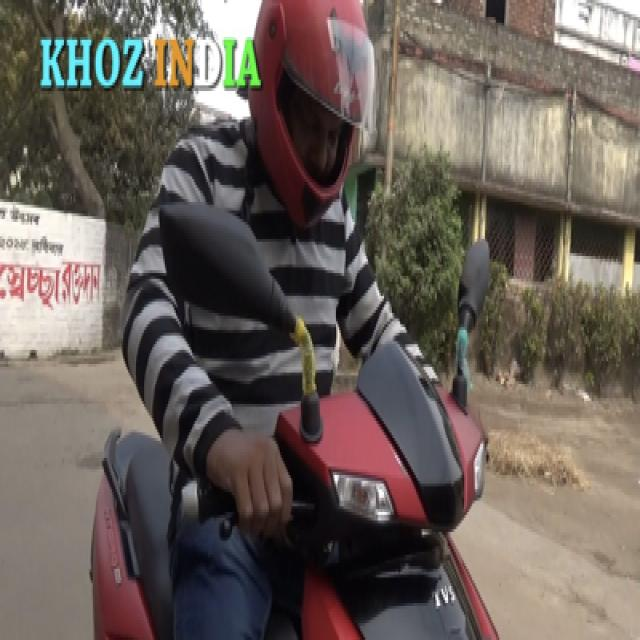helmet: (246, 0, 380, 228)
motorcycle: (59, 3, 518, 640)
